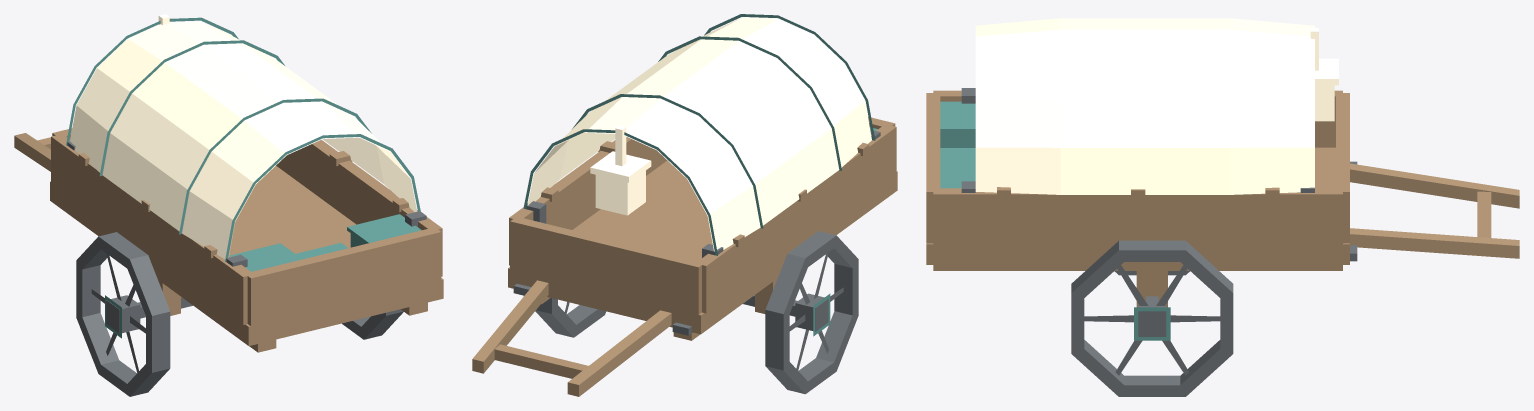
File: 157-Medios-De-Transporte_carreta_ancestral.glb
The picture shows the model from 3 angles, left to right: view 1: azimuth 30°, elevation 25°; view 2: azimuth 150°, elevation 25°; view 3: azimuth 270°, elevation 25°; orthographic projection. The views are drawn at different scales.
Parts seen in each view (by area): view 1: SM_Carreta_M_Carreta_Madera, SM_Carreta_M_Carreta_Lona, SM_Carreta_M_Carreta_Hierro, SM_Carreta_M_Carreta_Verde; view 2: SM_Carreta_M_Carreta_Madera, SM_Carreta_M_Carreta_Lona, SM_Carreta_M_Carreta_Hierro, SM_Carreta_M_Carreta_Verde; view 3: SM_Carreta_M_Carreta_Lona, SM_Carreta_M_Carreta_Madera, SM_Carreta_M_Carreta_Hierro, SM_Carreta_M_Carreta_Verde.
Boxes of the visible parts, bbox=[...] form: SM_Carreta_M_Carreta_Madera: bbox=[14, 128, 443, 352]; SM_Carreta_M_Carreta_Lona: bbox=[70, 14, 417, 259]; SM_Carreta_M_Carreta_Hierro: bbox=[67, 141, 426, 396]; SM_Carreta_M_Carreta_Verde: bbox=[66, 17, 421, 338]; SM_Carreta_M_Carreta_Madera: bbox=[472, 117, 897, 396]; SM_Carreta_M_Carreta_Lona: bbox=[527, 17, 871, 251]; SM_Carreta_M_Carreta_Hierro: bbox=[513, 130, 880, 394]; SM_Carreta_M_Carreta_Verde: bbox=[523, 14, 877, 336]; SM_Carreta_M_Carreta_Lona: bbox=[975, 18, 1338, 194]; SM_Carreta_M_Carreta_Madera: bbox=[926, 90, 1519, 307]; SM_Carreta_M_Carreta_Hierro: bbox=[961, 88, 1357, 396]; SM_Carreta_M_Carreta_Verde: bbox=[940, 101, 1170, 340].
Bounding box in the file's own units: 2.22 × 2.39 × 4.2.
